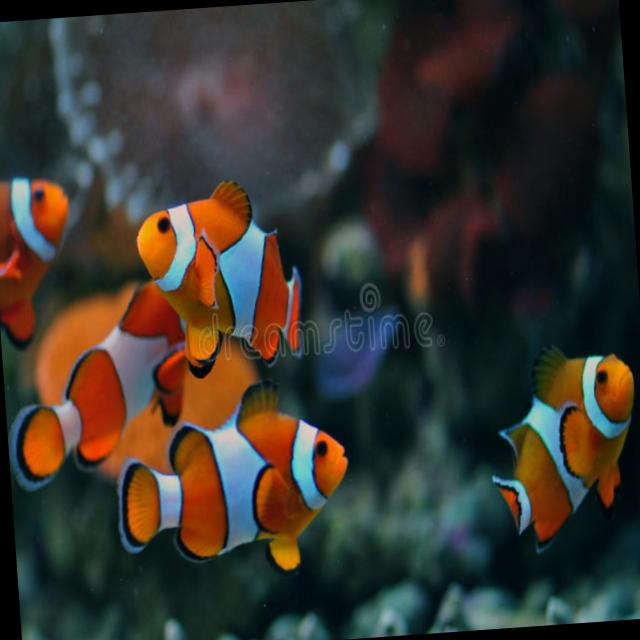ClownFish: (117, 380, 356, 581), (2, 282, 192, 486), (483, 336, 640, 553), (130, 174, 304, 365), (0, 169, 77, 348)
